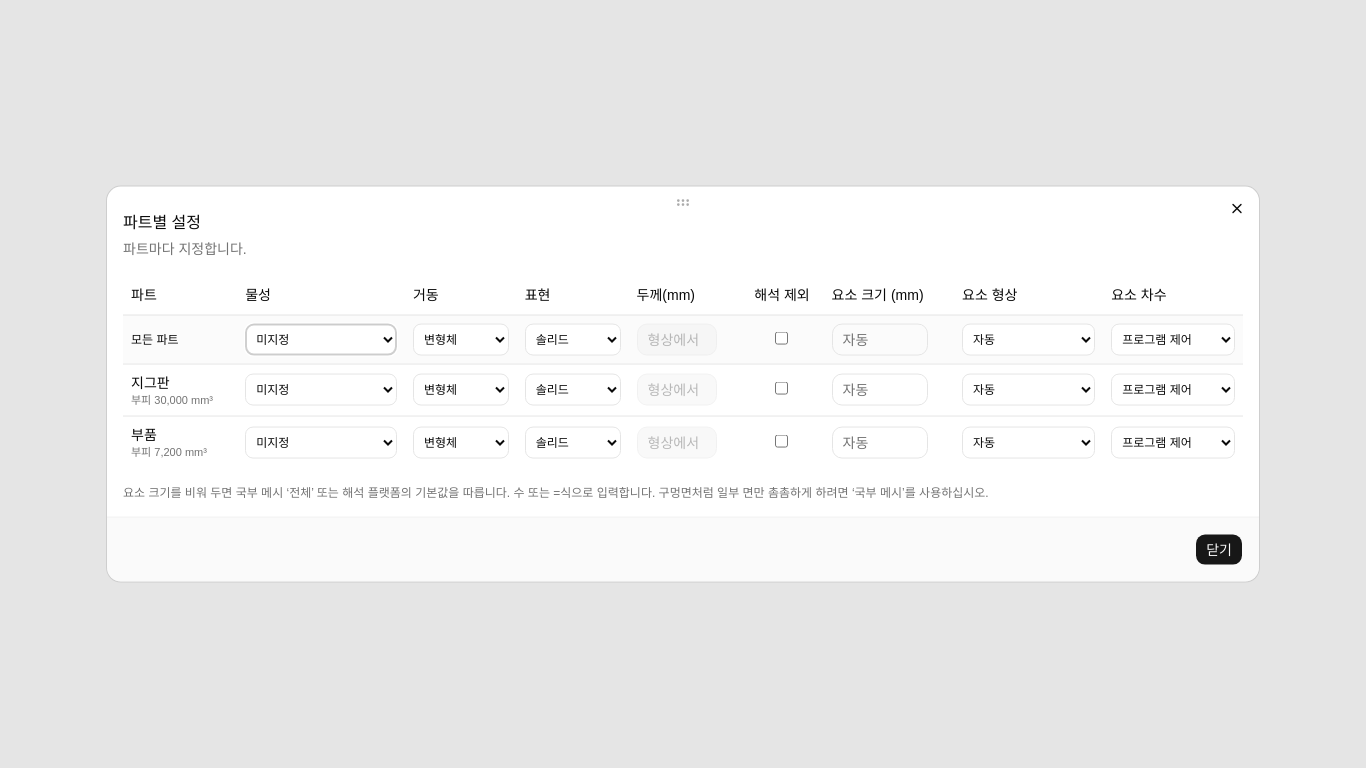
Test case: 파트마다 한 줄 — 거동 · 표현 · 해석 제외 · 메시를 고치고, 모든 파트 줄로 한꺼번에
The width and height of the screenshot is (1366, 768).
Select "SPCC" in the dropdown named "지그판 물성" at (321, 390), box top-left (245, 374), bottom-right (397, 406)
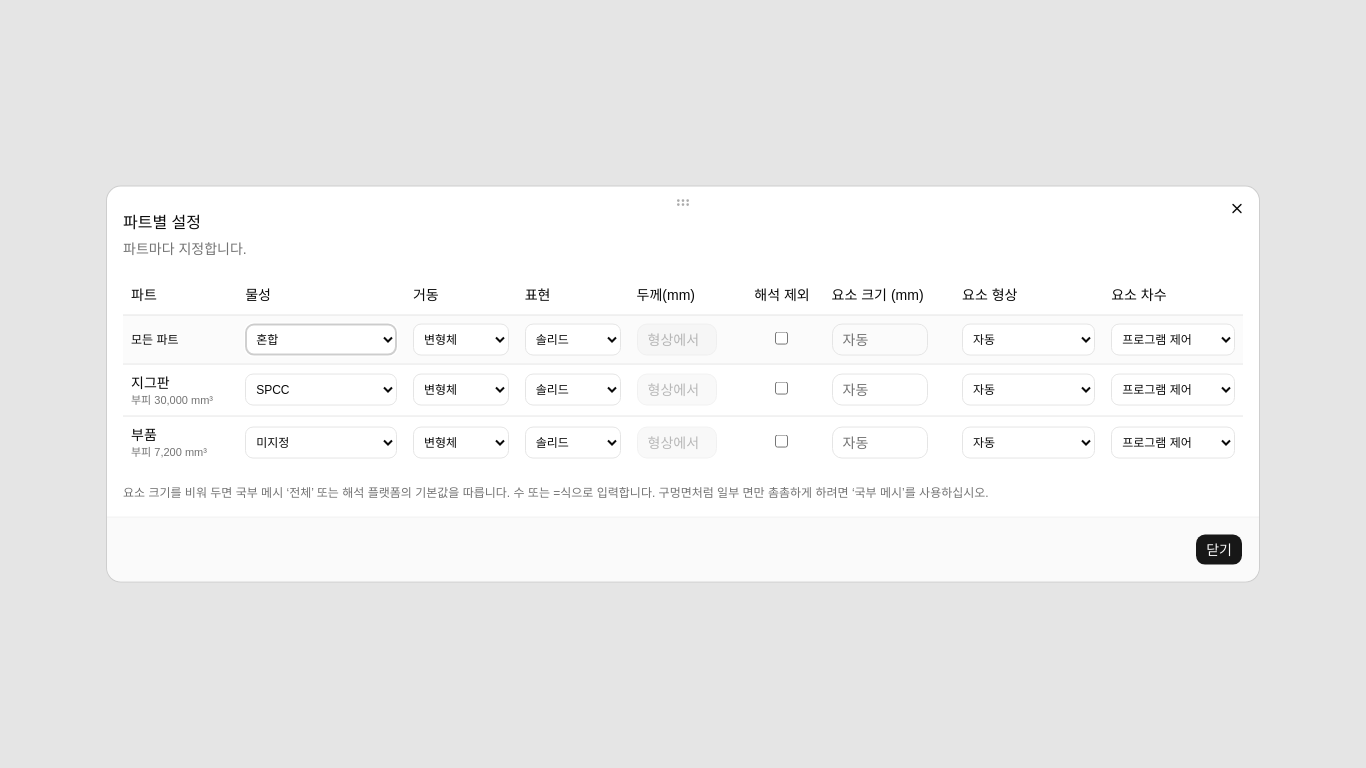
Select "쉘" in the dropdown named "부품 표현" at (573, 443), box top-left (525, 427), bottom-right (620, 459)
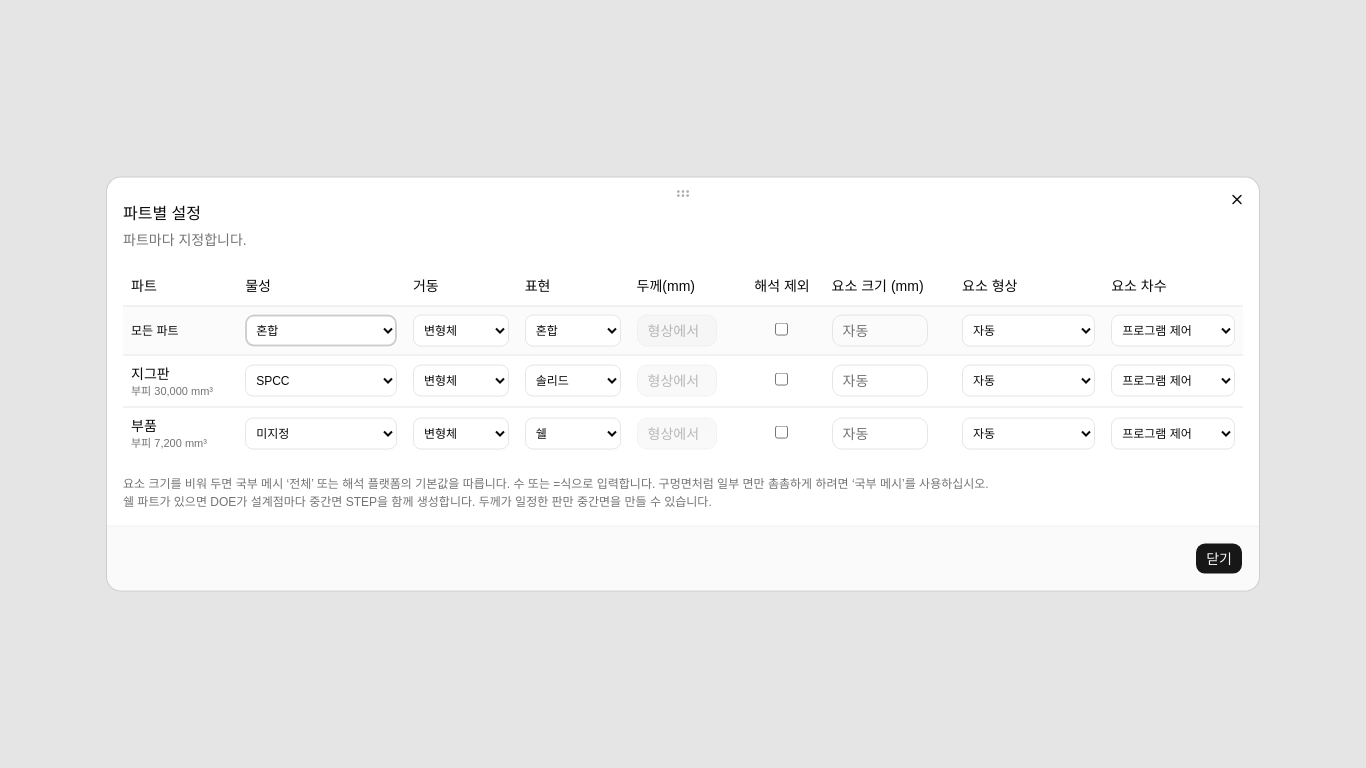
Select "강체" in the dropdown named "지그판 거동" at (461, 381), box top-left (413, 365), bottom-right (509, 397)
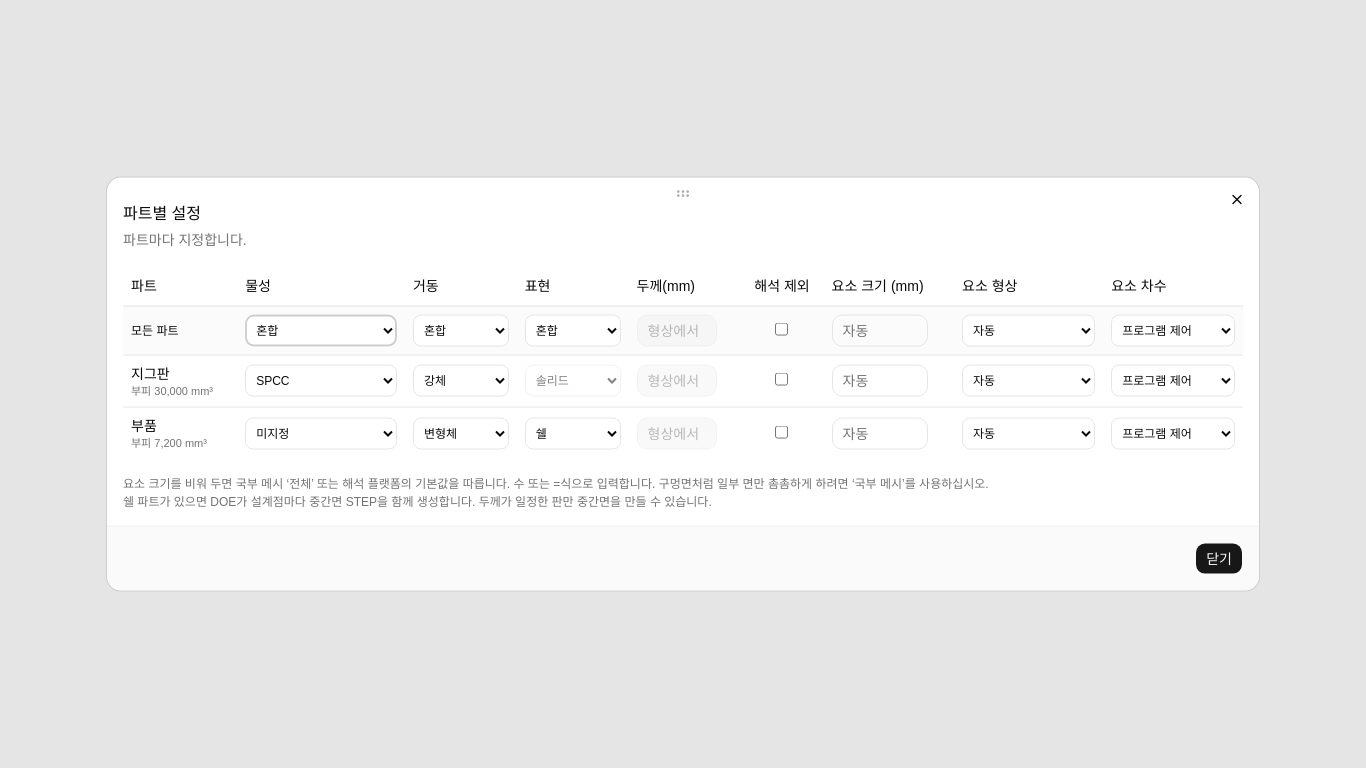
Now the list item "설계점마다 중간면 STEP" is shown, box top-left (123, 494), bottom-right (712, 508)
Now the dropdown named "지그판 표현" is disabled, box top-left (525, 365), bottom-right (620, 397)
// 모든 파트 줄 — 요소 크기를 한꺼번에. 값이 갈리는 열은 「혼합」.
Type "2" into the field named "모든 파트 요소 크기" at (880, 330), box top-left (832, 314), bottom-right (928, 346)
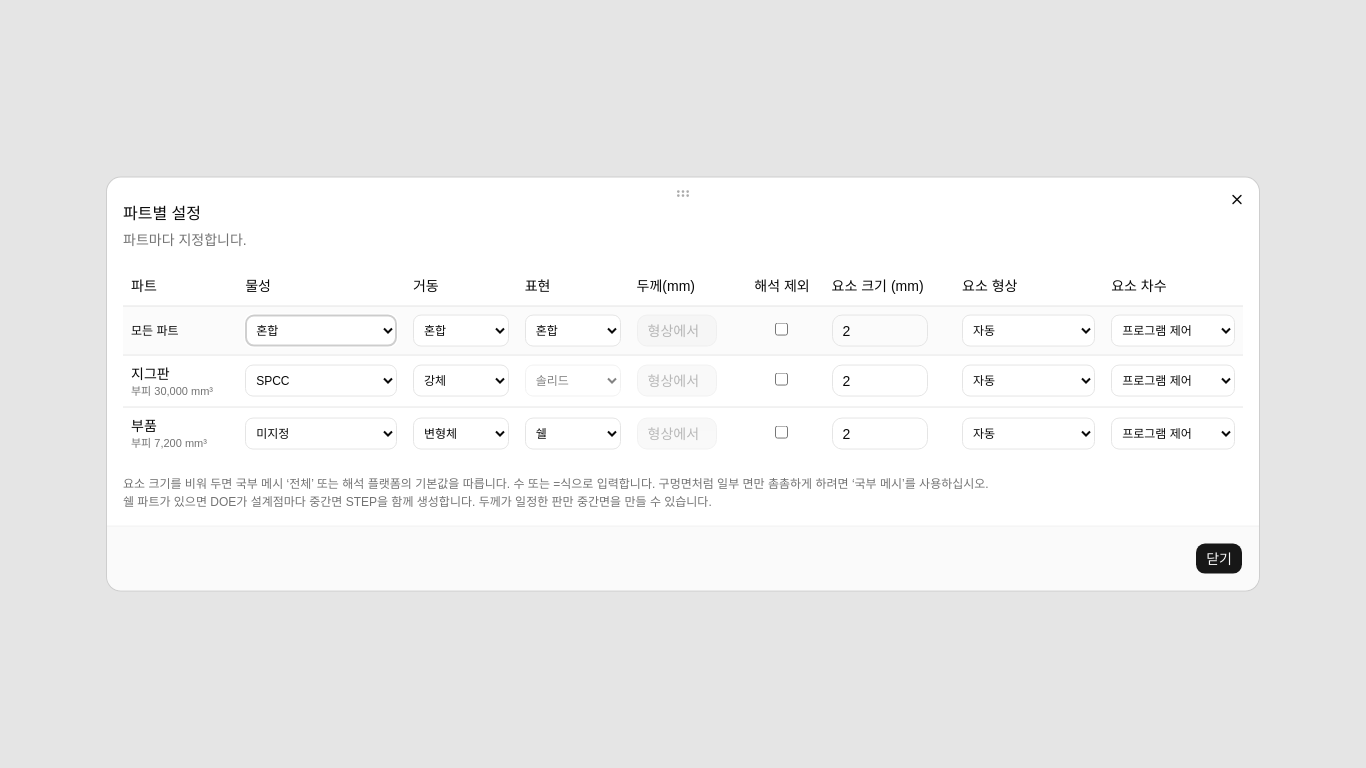
Now the dropdown named "모든 파트 거동" shows "혼합", box top-left (413, 314), bottom-right (509, 346)
Select "2차(정확)" in the dropdown named "모든 파트 요소 차수" at (1173, 330), box top-left (1111, 314), bottom-right (1235, 346)
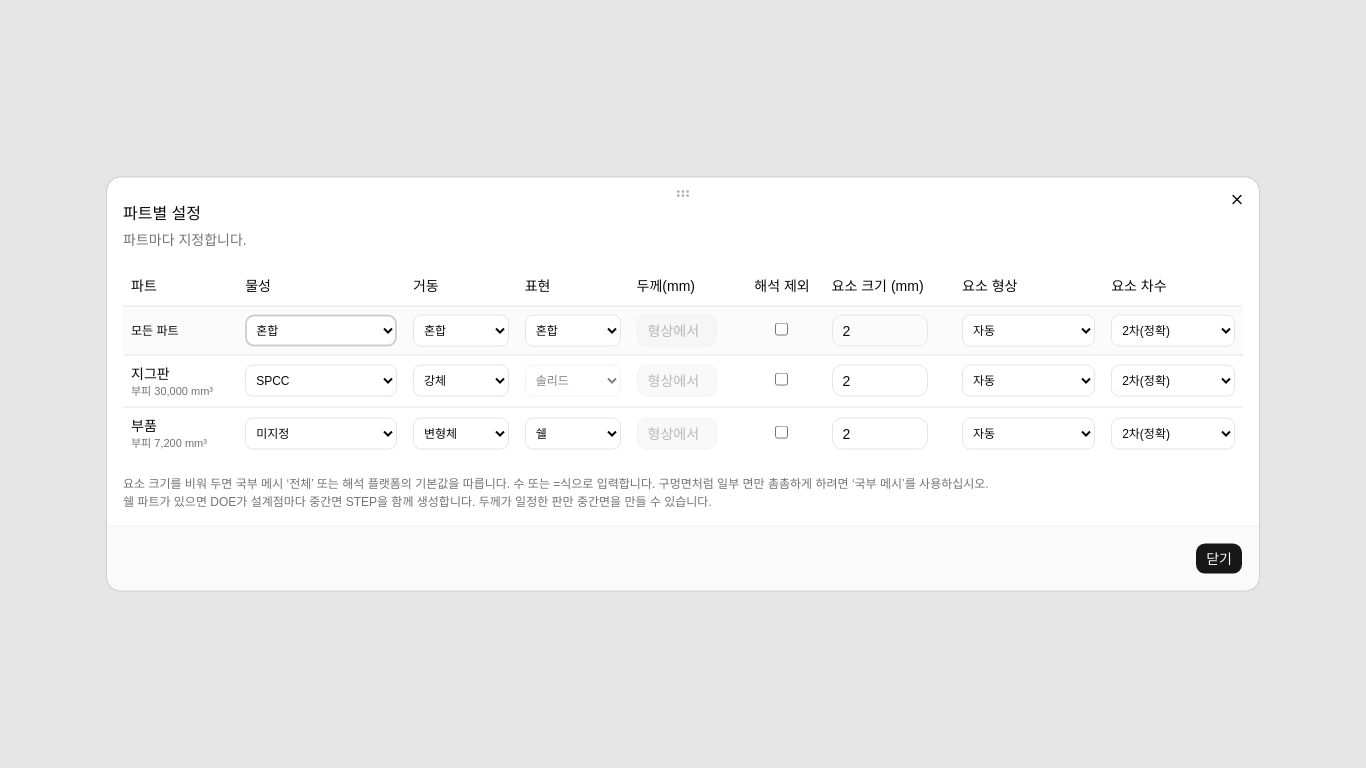
// 해석 제외 — 그 줄의 나머지 칸은 잠긴다.
Click the checkbox named "부품 해석 제외" at (782, 432), box top-left (776, 426), bottom-right (788, 439)
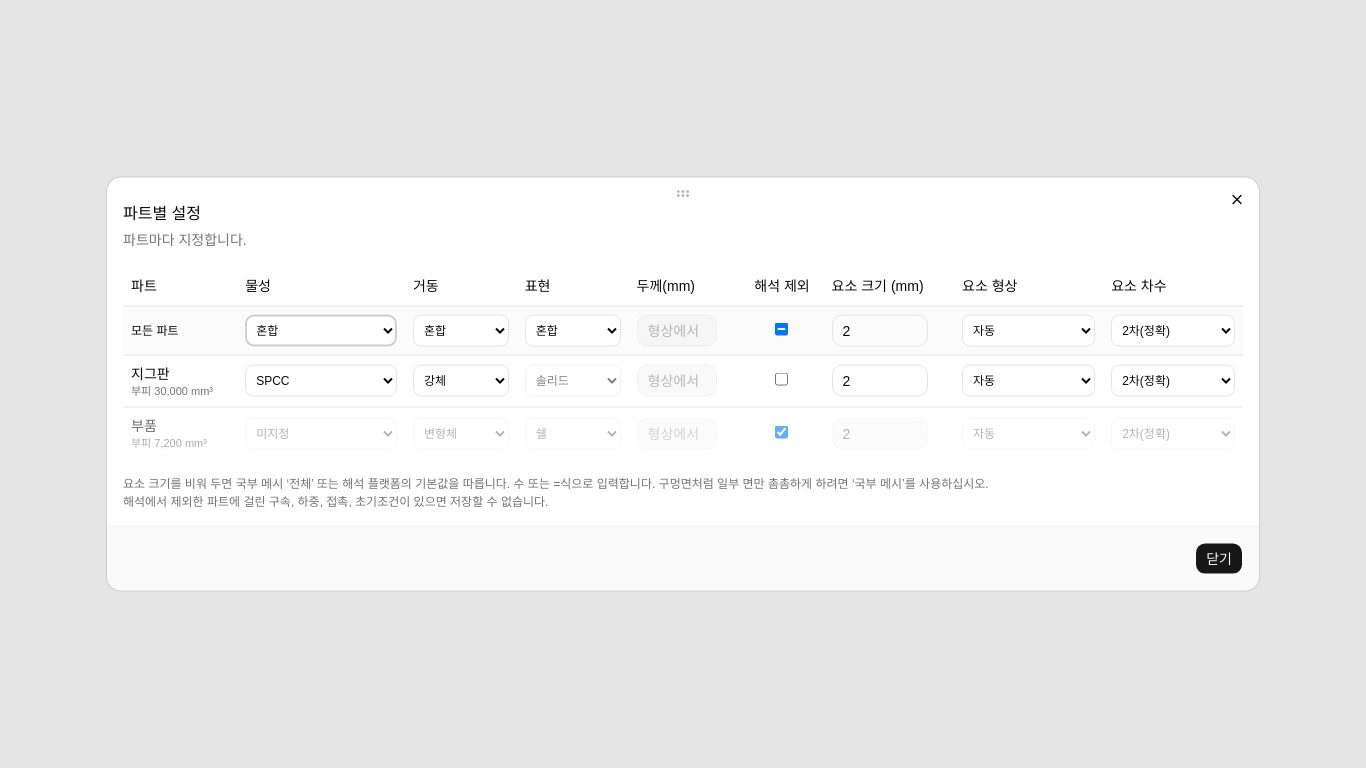
Now the dropdown named "부품 거동" is disabled, box top-left (413, 418), bottom-right (509, 450)
Now the field named "부품 요소 크기" is disabled, box top-left (832, 418), bottom-right (928, 450)
